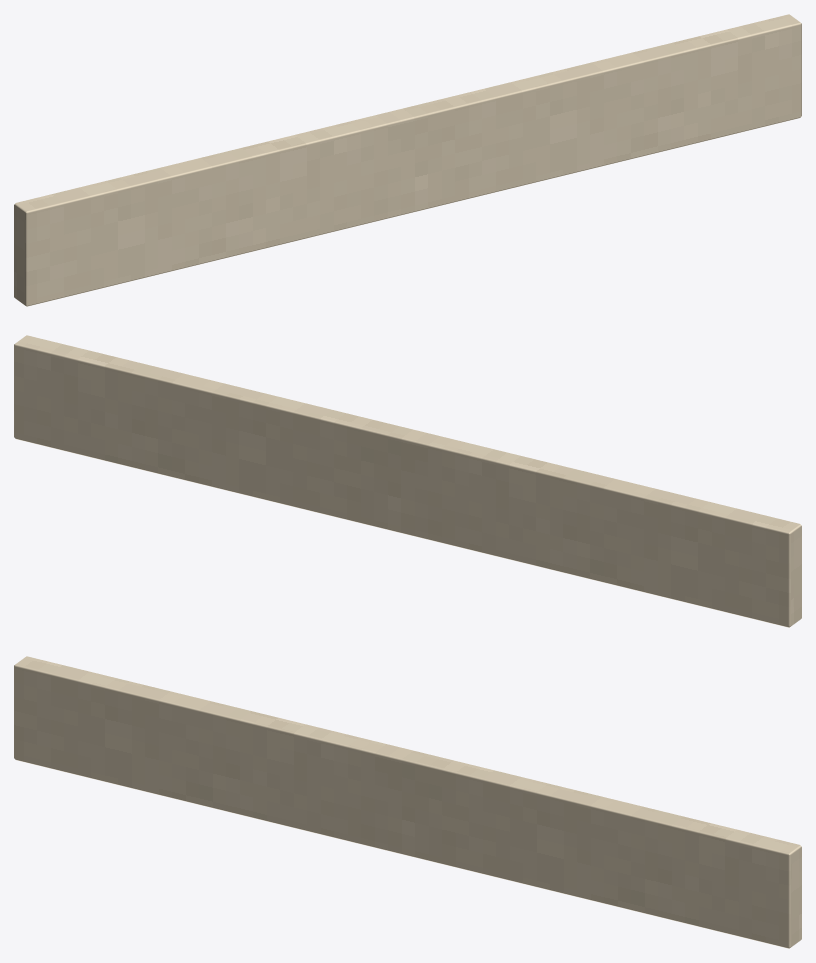
Rendered from Fascia.glb.
3 views of the same model, one above another, from view 1: azimuth 30°, elevation 25°; view 2: azimuth 150°, elevation 25°; view 3: azimuth 330°, elevation 25° (orthographic).
Parts seen in each view (by area): view 1: Fascia; view 2: Fascia; view 3: Fascia.
Boxes of the visible parts, x1,y1,x2,y2 form: Fascia: [14, 14, 801, 306]; Fascia: [14, 335, 801, 627]; Fascia: [14, 656, 801, 948].
Size of the model in its own units: 2.25 by 0.265 by 0.065.
Materials: 1 (1 with a texture image).
